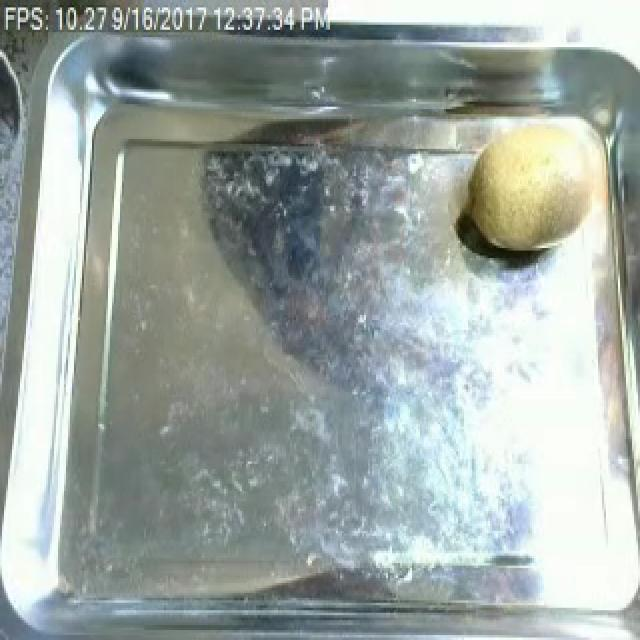Fruit: (460, 107, 622, 263)
